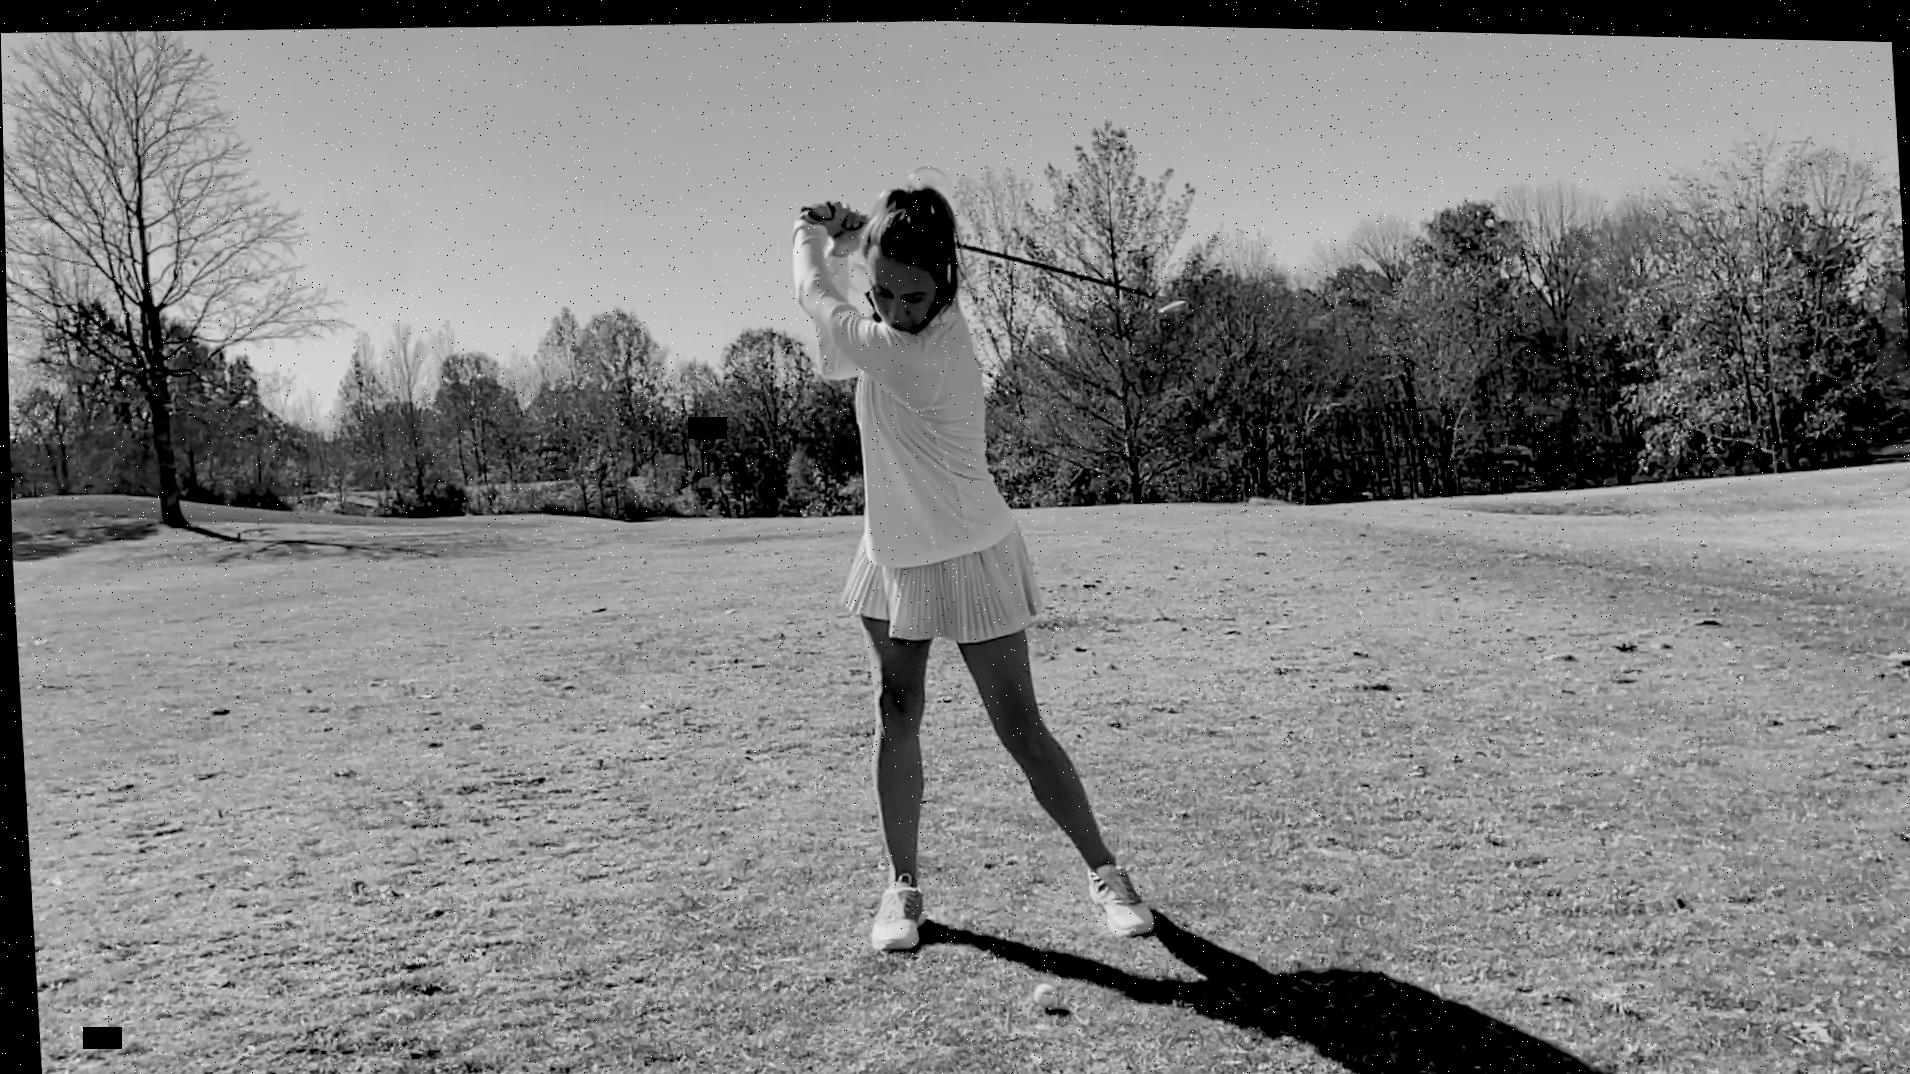ClubHead: (1128, 278, 1196, 317)
GolfBall: (1026, 976, 1055, 1004)
